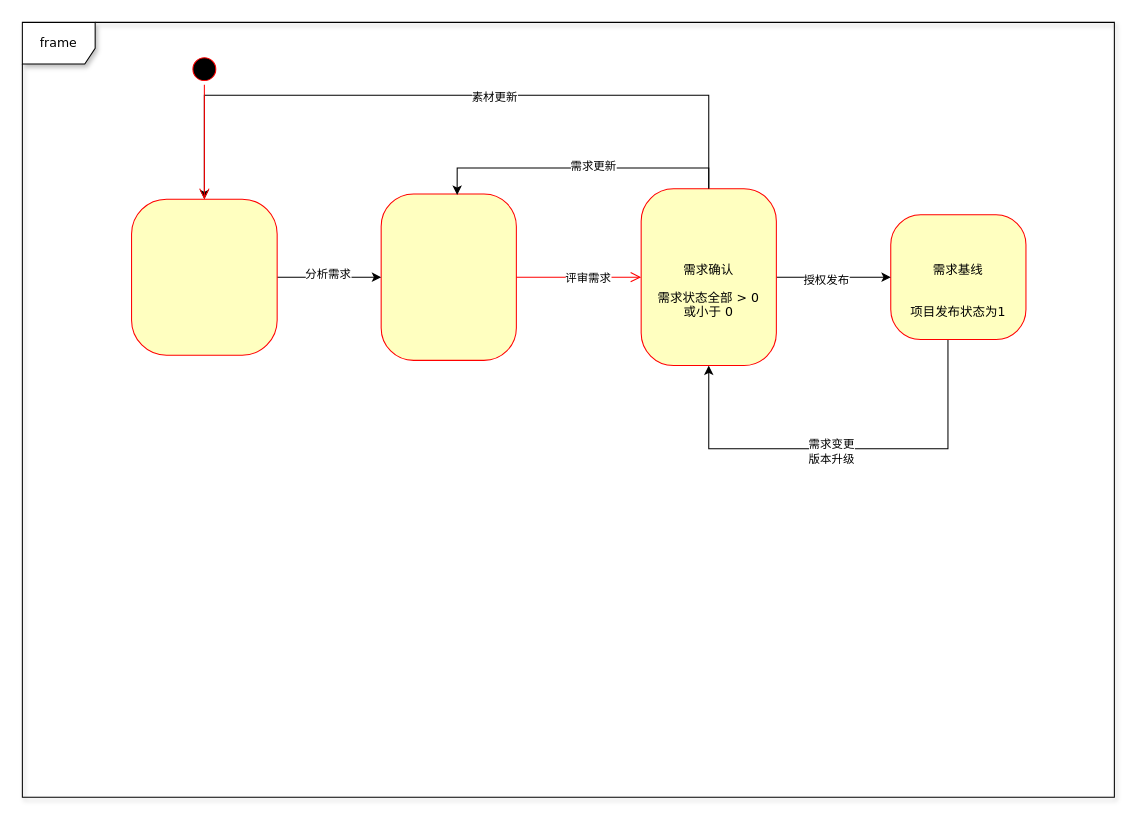
Image size: 1139x823. Some labels were removed from this diagram. The centre of each missing label's shape, as x and y in pixels:
"需求分析 素材需求关联完整" goes at (448,276).
"需求采集 素材需求关联不完整" goes at (204,276).
